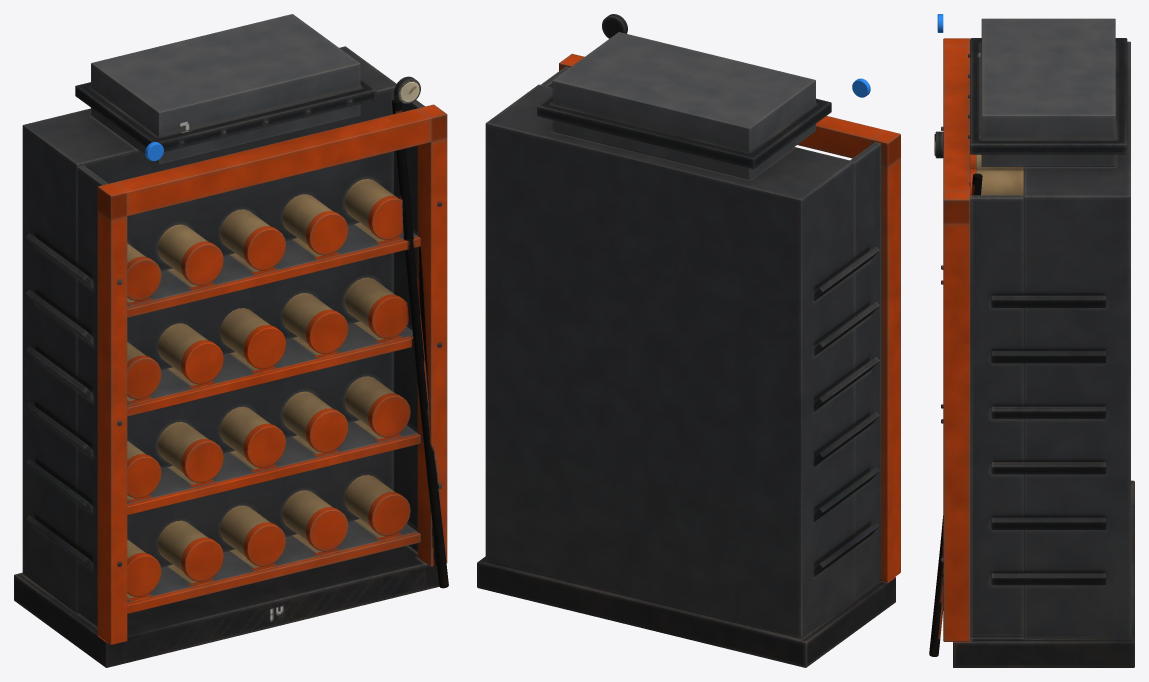
Rendered from air_scrubber.glb.
The picture shows the model from 3 angles, left to right: view 1: azimuth 30°, elevation 25°; view 2: azimuth 150°, elevation 25°; view 3: azimuth 270°, elevation 25°; orthographic projection. The views are drawn at different scales.
Parts seen in each view (by area): view 1: air_scrubber; view 2: air_scrubber; view 3: air_scrubber.
Part boxes in pixels (left/top/right/bottom): air_scrubber: left=14, top=14, right=448, bottom=667; air_scrubber: left=477, top=14, right=900, bottom=667; air_scrubber: left=929, top=14, right=1134, bottom=667.
Size of the model in its own units: 2.03 by 3 by 1.07.
Materials: 1 (1 with a texture image).
